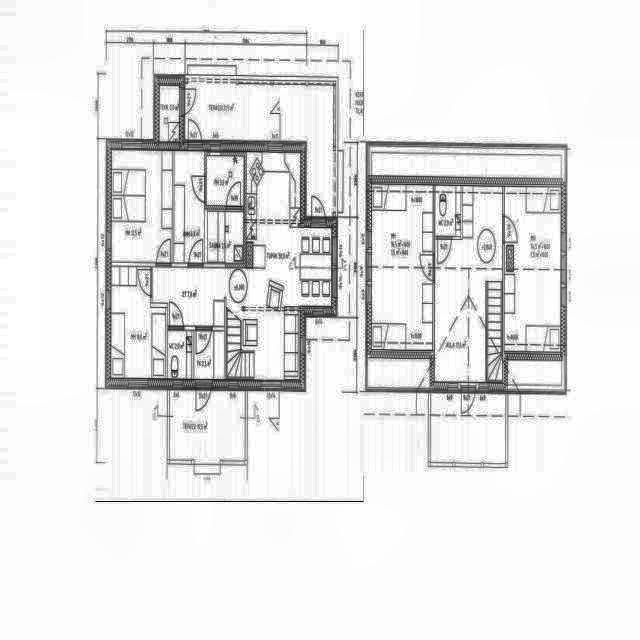room: (372, 185, 433, 349), (505, 187, 560, 351), (112, 151, 172, 262), (112, 267, 167, 377), (207, 157, 243, 205), (194, 331, 224, 378), (435, 186, 460, 235), (168, 331, 193, 377)
